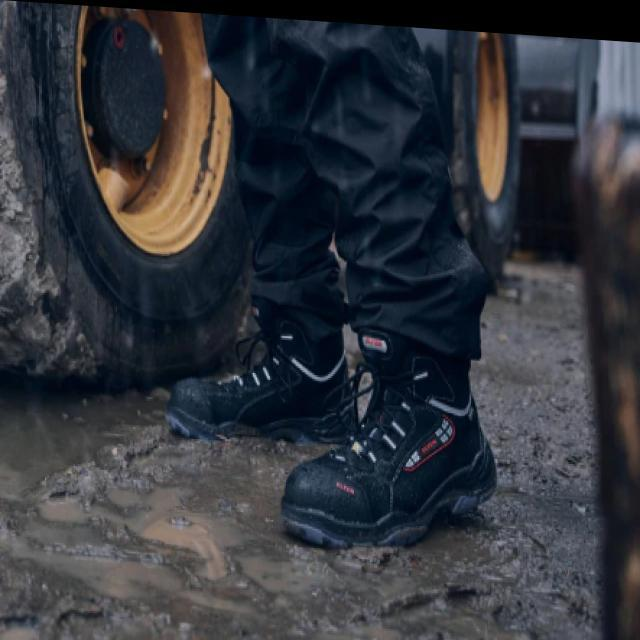boots: (162, 276, 504, 569)
